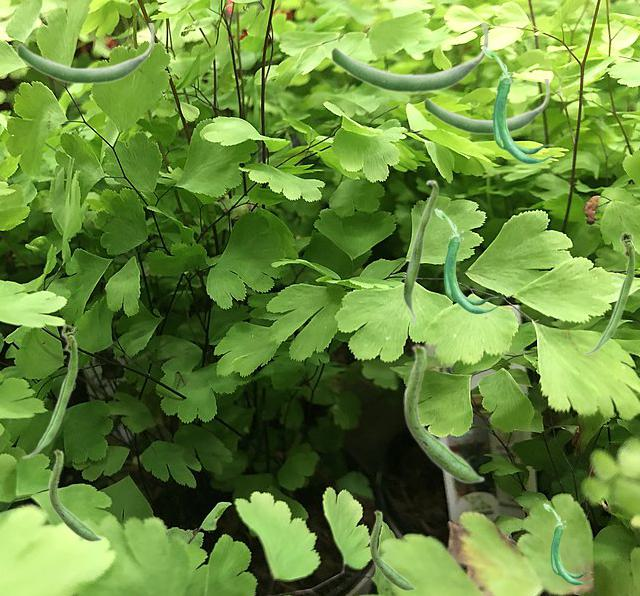french_bean: (403, 342, 484, 483), (330, 23, 488, 93), (16, 23, 154, 84), (482, 46, 553, 163), (21, 323, 77, 458), (423, 79, 549, 134), (434, 208, 498, 313), (583, 231, 634, 354), (402, 179, 438, 326), (48, 448, 101, 541), (543, 503, 592, 584), (369, 509, 415, 590)
